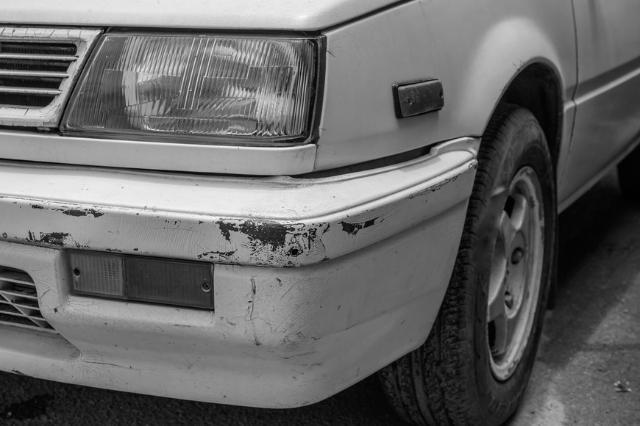Bumper: (153, 191, 403, 385)
